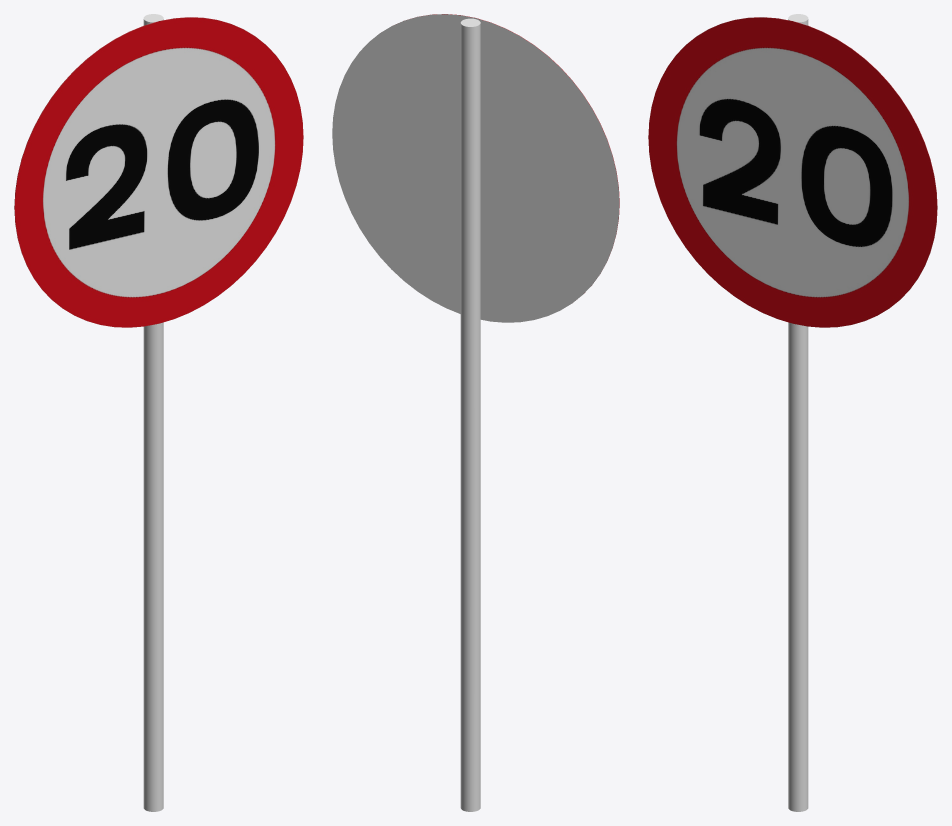
Rendered from señal_traffic.obj.
The picture shows the model from 3 angles, left to right: view 1: azimuth 30°, elevation 25°; view 2: azimuth 150°, elevation 25°; view 3: azimuth 330°, elevation 25°; orthographic projection.
Visible parts, largest first — view 1: Cylinder_1, Cylinder_0; view 2: Cylinder_2, Cylinder_0; view 3: Cylinder_1, Cylinder_0.
Boxes of the visible parts, x1,y1,x2,y2 form: Cylinder_1: [14, 17, 303, 327]; Cylinder_0: [143, 14, 163, 811]; Cylinder_2: [332, 14, 619, 322]; Cylinder_0: [460, 18, 480, 811]; Cylinder_1: [648, 17, 937, 327]; Cylinder_0: [788, 14, 808, 811].
Size of the model in its own units: 3.83 by 10.01 by 0.2408.
